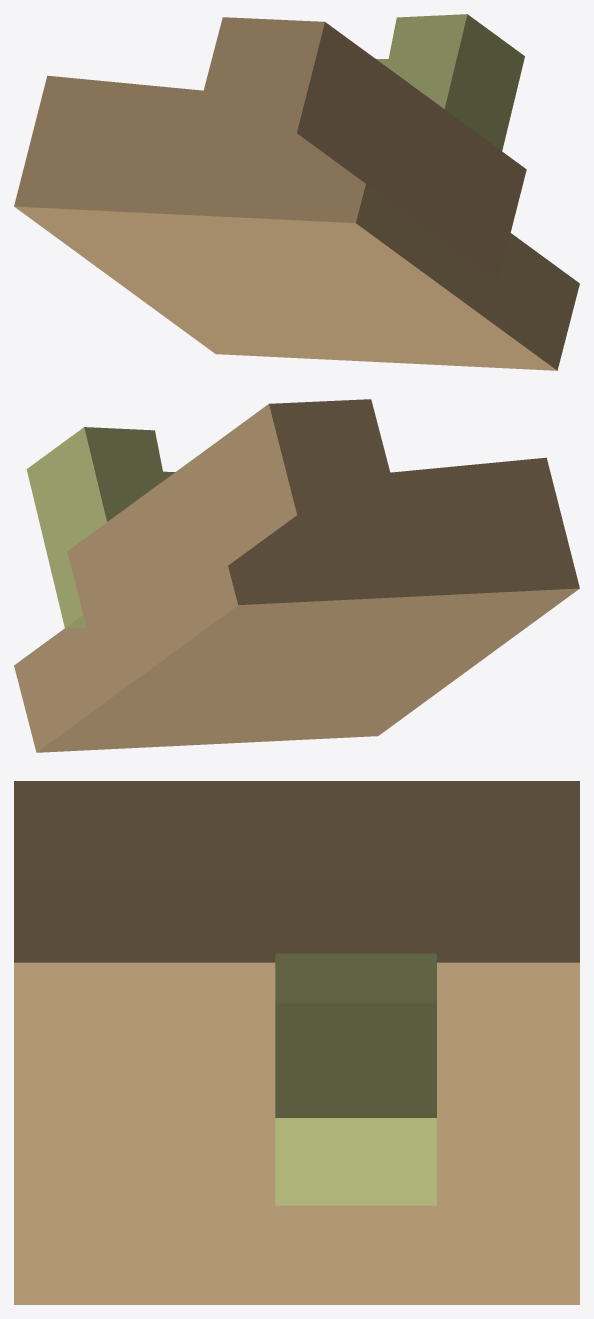
3 views of the same model, one above another, from view 1: azimuth 30°, elevation 25°; view 2: azimuth 150°, elevation 25°; view 3: azimuth 270°, elevation 25° (orthographic). The views are drawn at different scales.
Visible parts, largest first — view 1: 0_3_0_1_1_2_1_0_3_2; view 2: 0_3_0_1_1_2_1_0_3_2; view 3: 0_3_0_1_1_2_1_0_3_2.
Part boxes in pixels (left/top/right/bottom): 0_3_0_1_1_2_1_0_3_2: left=14, top=14, right=579, bottom=370; 0_3_0_1_1_2_1_0_3_2: left=14, top=399, right=579, bottom=752; 0_3_0_1_1_2_1_0_3_2: left=14, top=781, right=579, bottom=1304.
Size of the model in its own units: 24.2 by 14.1 by 21.
